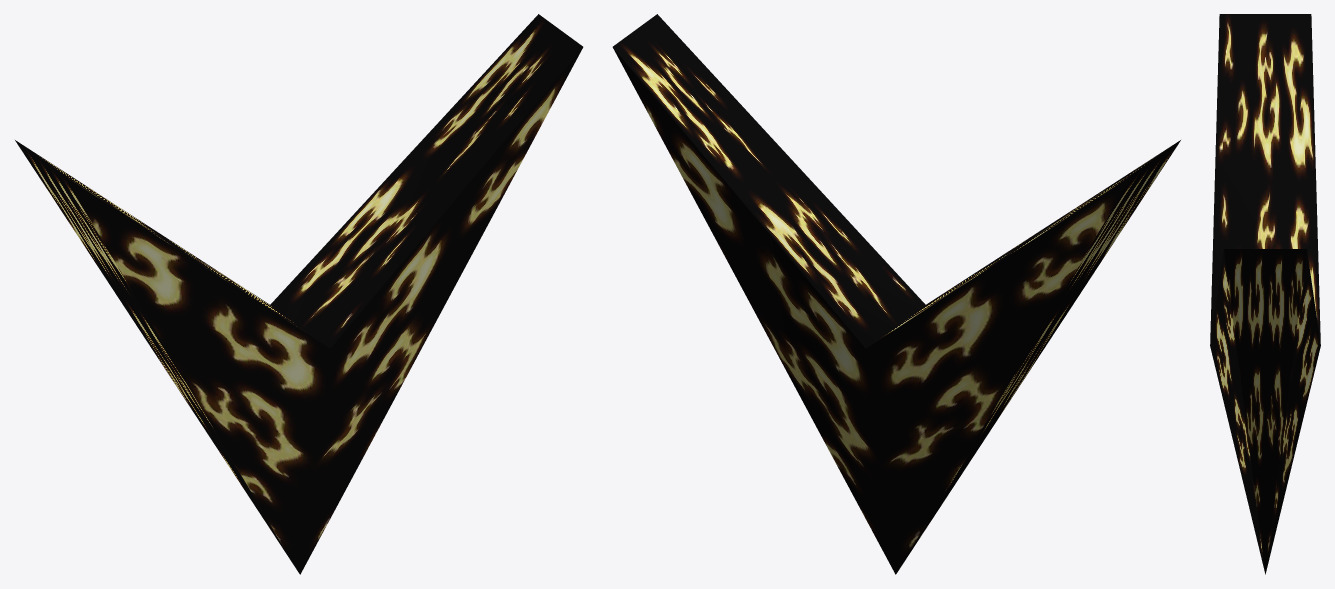
File: 0458_vguang_M_02.glb
The picture shows the model from 3 angles, left to right: view 1: azimuth 30°, elevation 25°; view 2: azimuth 150°, elevation 25°; view 3: azimuth 270°, elevation 25°; orthographic projection. The views are drawn at different scales.
Bounding box in the file's own units: 2.2 × 1.94 × 0.4385.
Materials: 1 (1 with a texture image).
